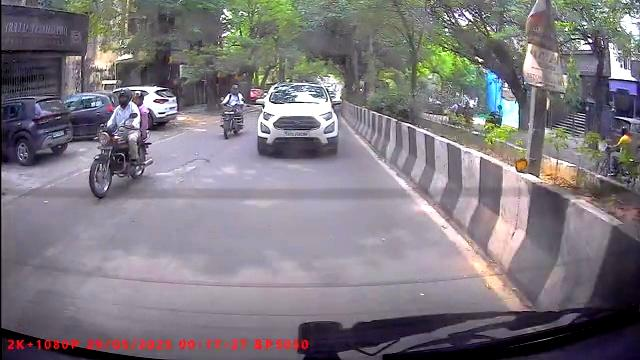motorcycle_with_helmet: (85, 89, 158, 199), (220, 83, 245, 140)
